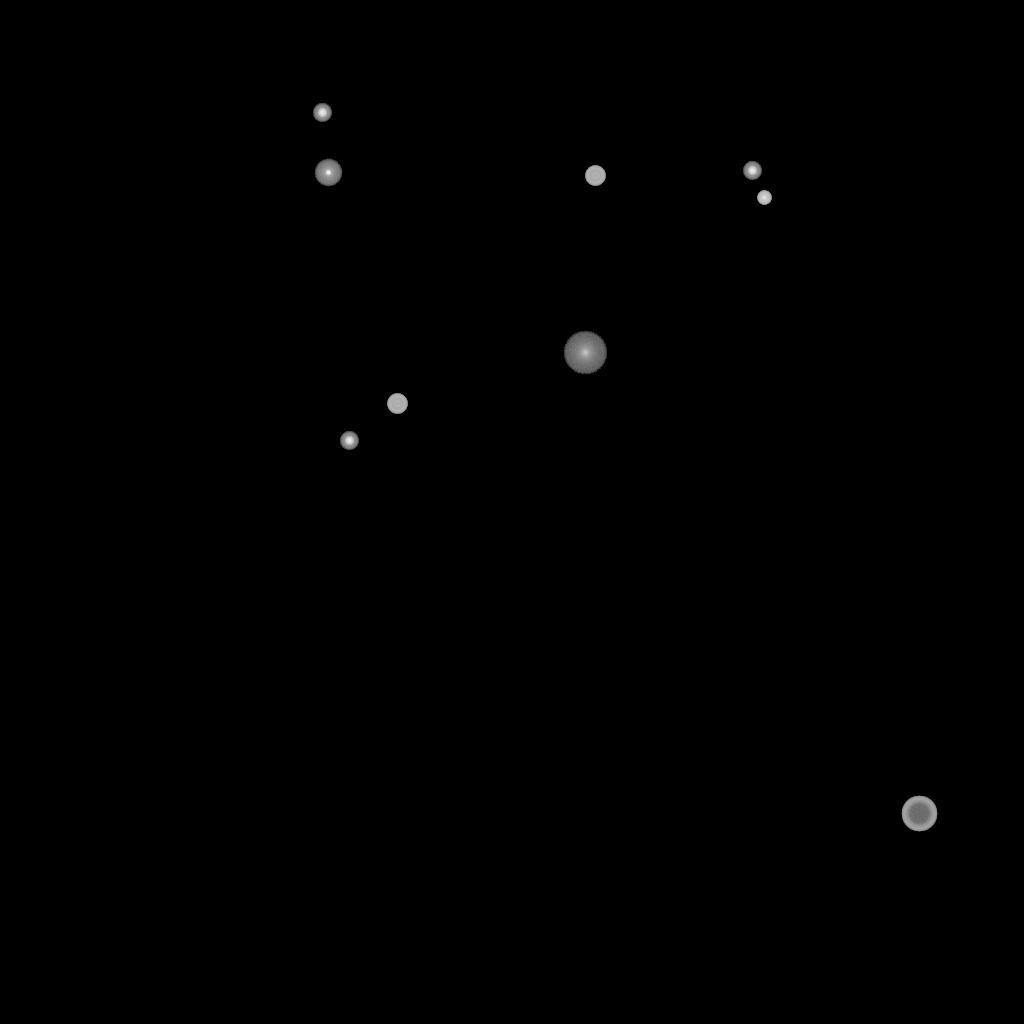depth:-10: (314, 159, 342, 187)
depth:-20: (313, 104, 331, 122), (743, 162, 761, 180), (340, 432, 358, 450)
depth:-30: (757, 191, 771, 205)
depth:-40: (585, 166, 605, 186), (387, 394, 407, 414)
depth:-60: (901, 796, 937, 832)
depth:10: (563, 331, 607, 375)
